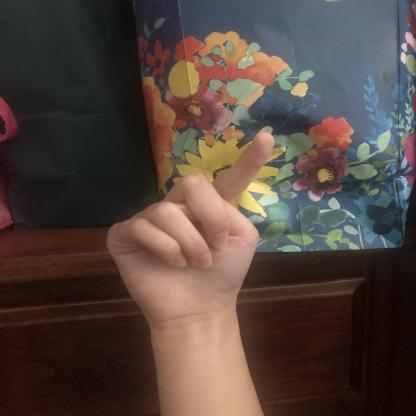finger_point: (209, 122, 276, 202)
